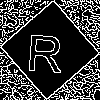R: (25, 25, 65, 73)
